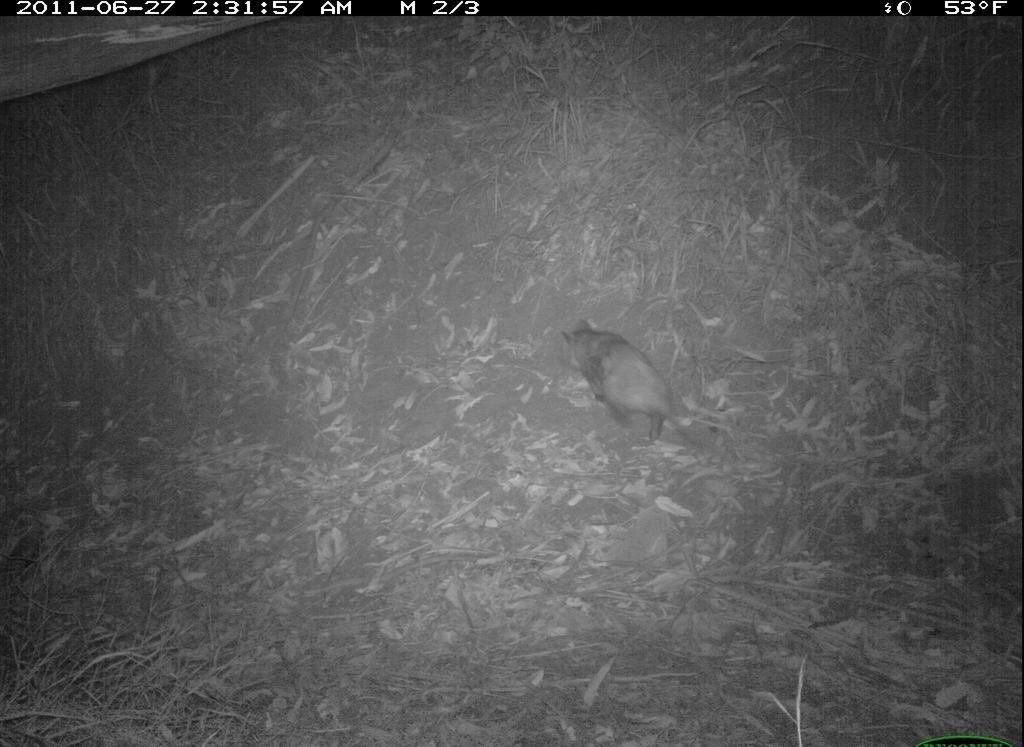opossum: (545, 300, 721, 461)
